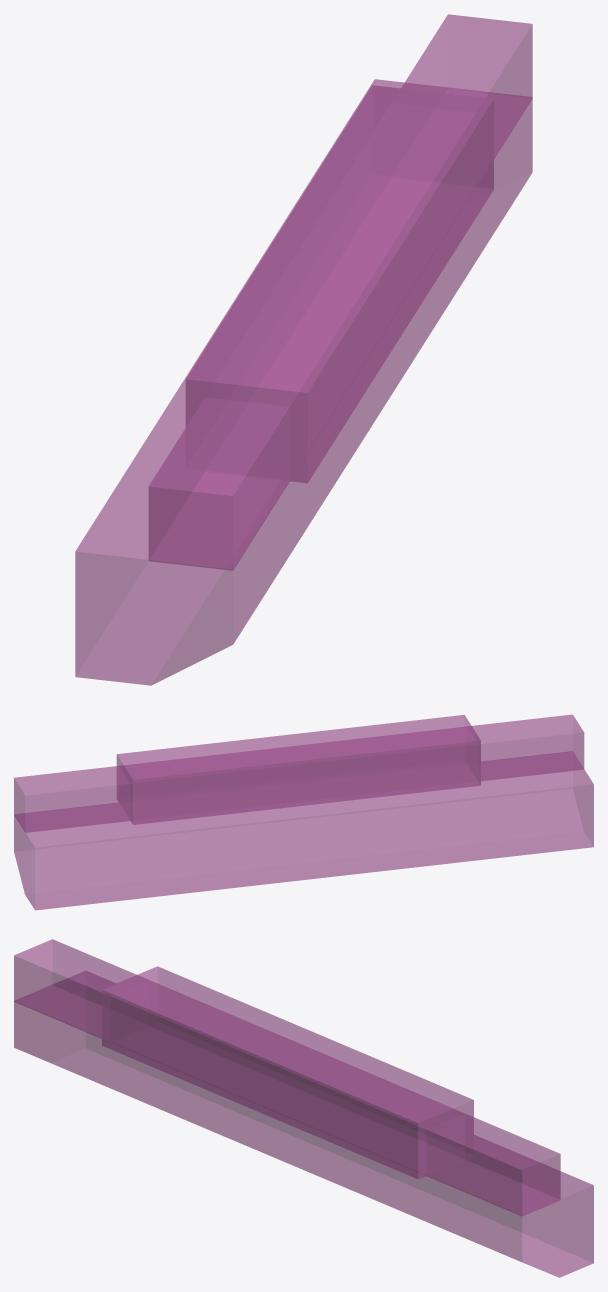
The model's file is SM_Bld_Railing_45_03_Collision.fbx.
The picture shows the model from 3 angles, top to bottom: view 1: azimuth 30°, elevation 25°; view 2: azimuth 150°, elevation 25°; view 3: azimuth 270°, elevation 25°; orthographic projection. The views are drawn at different scales.
Parts seen in each view (by area): view 1: SM_Bld_Railing_45_03_Collision; view 2: SM_Bld_Railing_45_03_Collision; view 3: SM_Bld_Railing_45_03_Collision.
Boxes of the visible parts, x1,y1,x2,y2 form: SM_Bld_Railing_45_03_Collision: [75, 14, 532, 685]; SM_Bld_Railing_45_03_Collision: [14, 714, 593, 910]; SM_Bld_Railing_45_03_Collision: [14, 939, 593, 1277].
Bounding box in the file's own units: 294 × 74.55 × 294.
